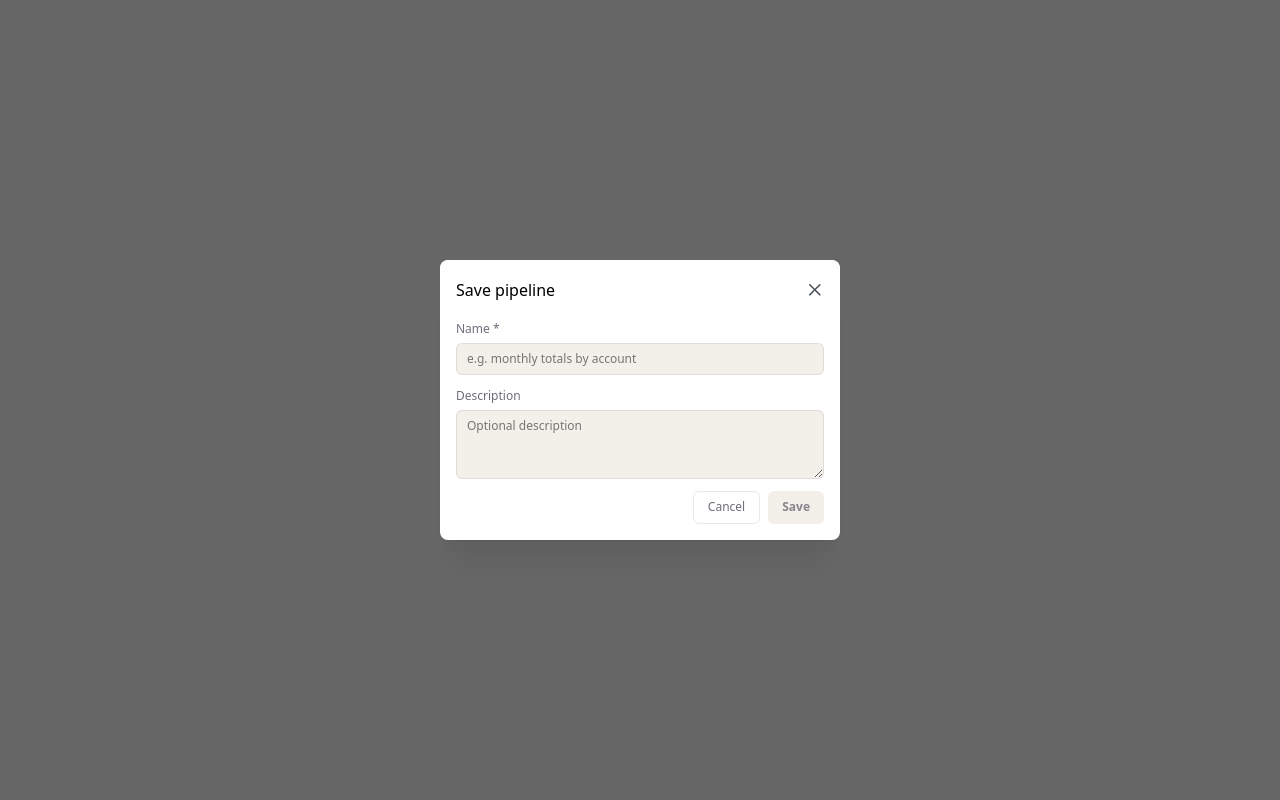
Scenario: SavePipelineModal — dialog shell + guard (X15 T6) › Escape with a typed name prompts, and Cancel leaves the text intact
Type "Top skus" into the field labelled "Name *". click: (640, 359)
box: [456,342,824,375]
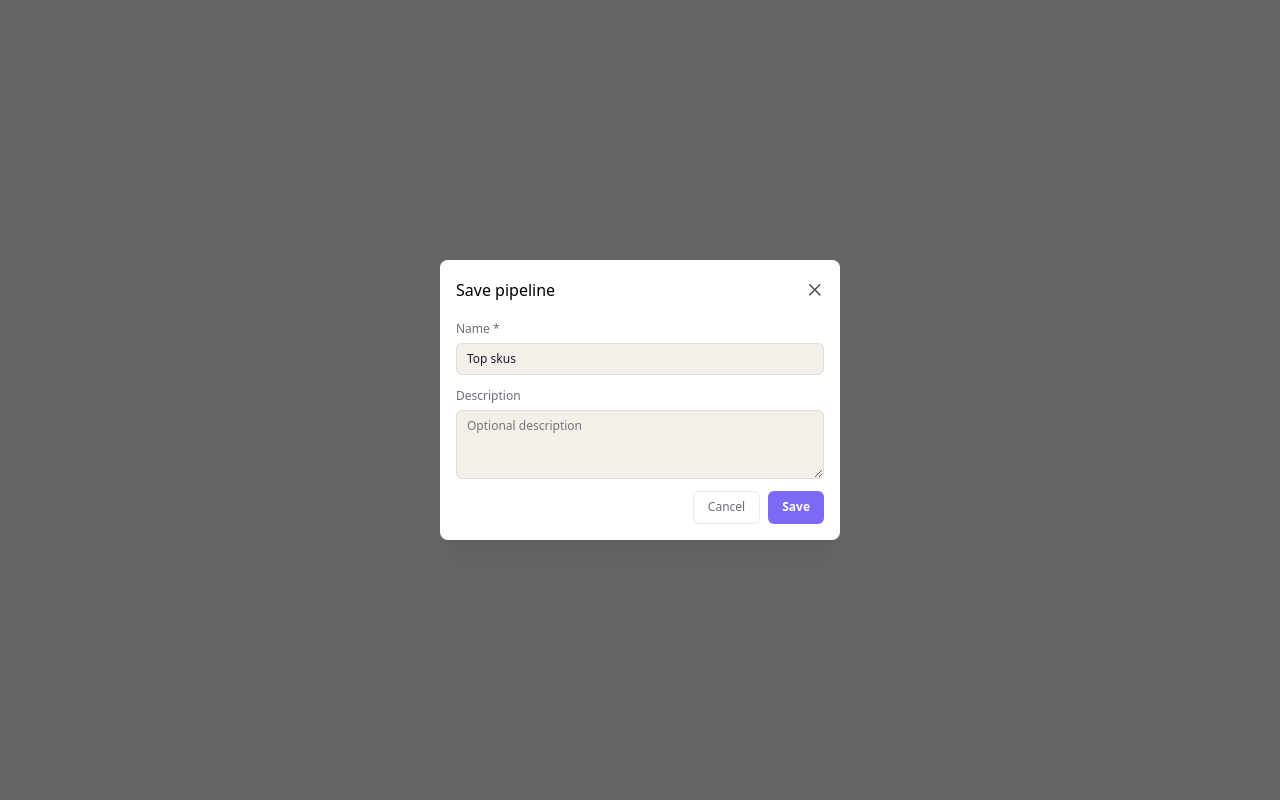
Press Escape
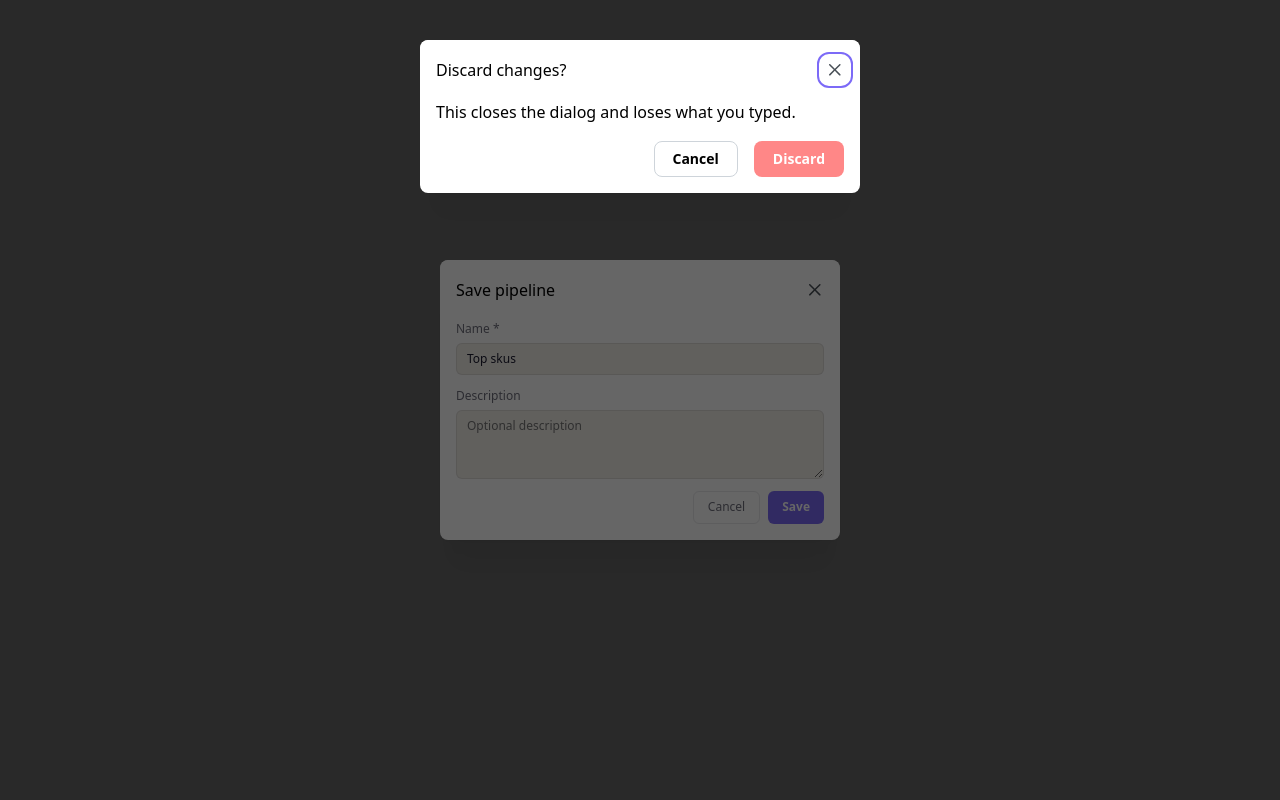
Click the button "Cancel". click: (696, 159)
box: [654,141,738,177]
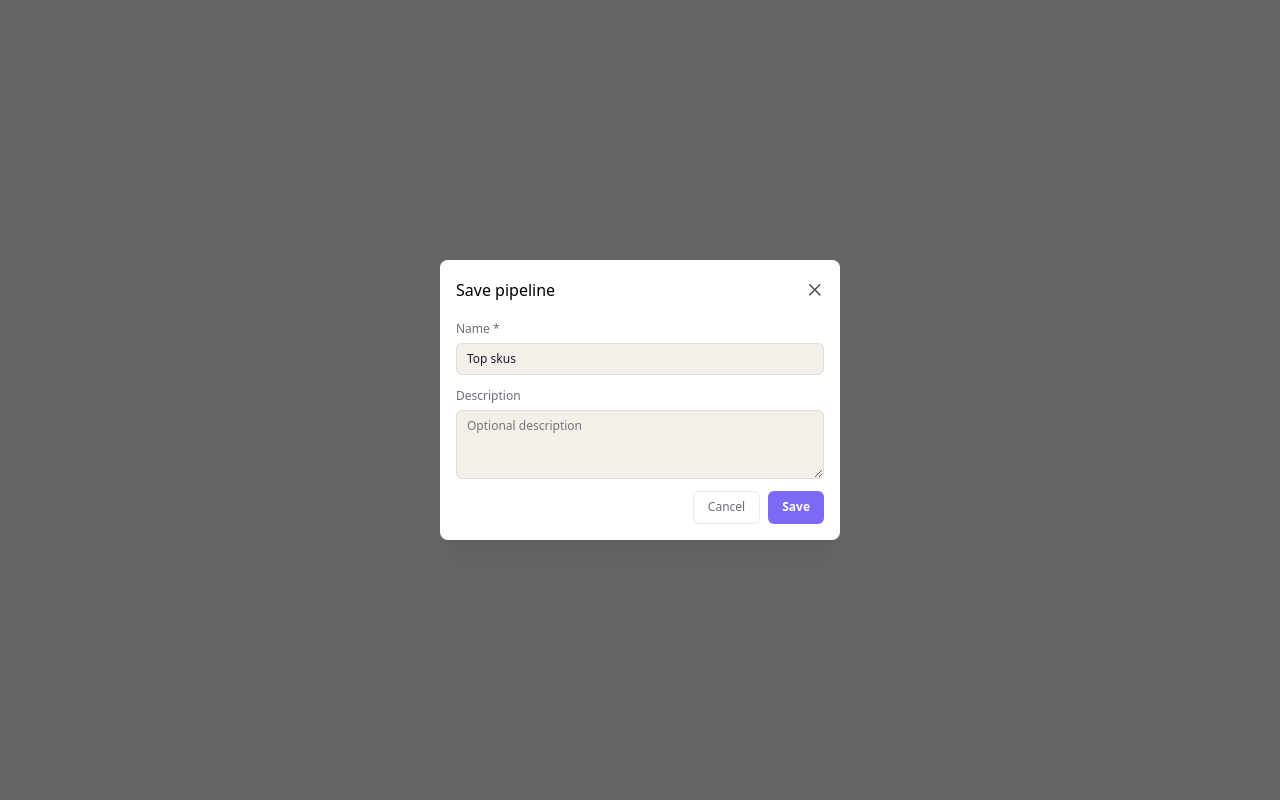
expect the heading "Discard changes?" is gone: met
